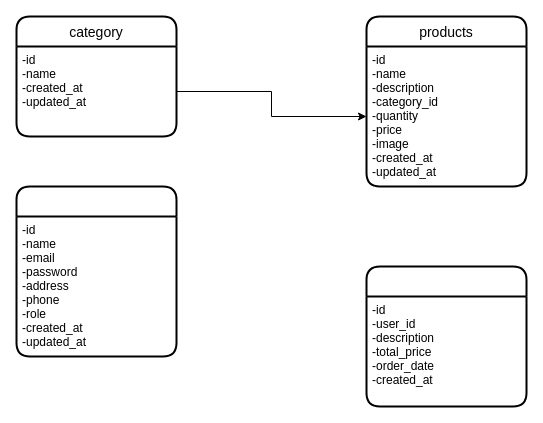
Image size: 543x423. Some labels were removed from this diagram. Here are the shapes that lost their labels. From the top down, the box of each, then its label:
(15, 185, 177, 357): customers
(365, 265, 527, 407): orders
